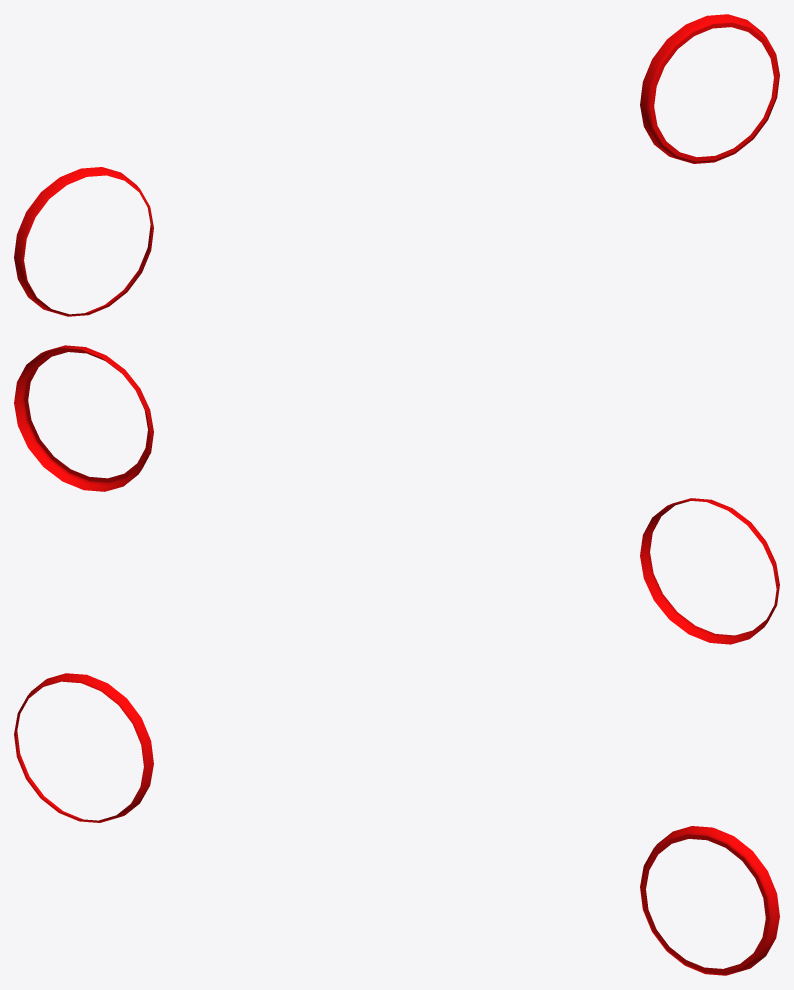
Rendered from Mini_Fenders01_Trim.fbx.
The picture shows the model from 3 angles, top to bottom: view 1: azimuth 30°, elevation 25°; view 2: azimuth 150°, elevation 25°; view 3: azimuth 330°, elevation 25°; orthographic projection.
Visible parts, largest first — view 1: Mini_Fenders01_Trim; view 2: Mini_Fenders01_Trim; view 3: Mini_Fenders01_Trim.
Part boxes in pixels (x1,y1,x2,y2): Mini_Fenders01_Trim: (14,14,779,316); Mini_Fenders01_Trim: (14,345,779,644); Mini_Fenders01_Trim: (14,673,779,975).
Bounding box in the file's own units: 1.22 × 0.219 × 0.0238.
